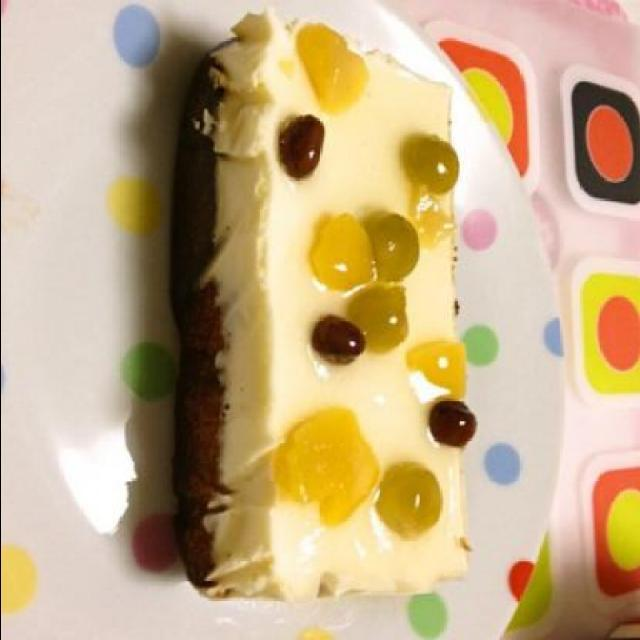Rare cheese cake: (120, 6, 478, 618)
